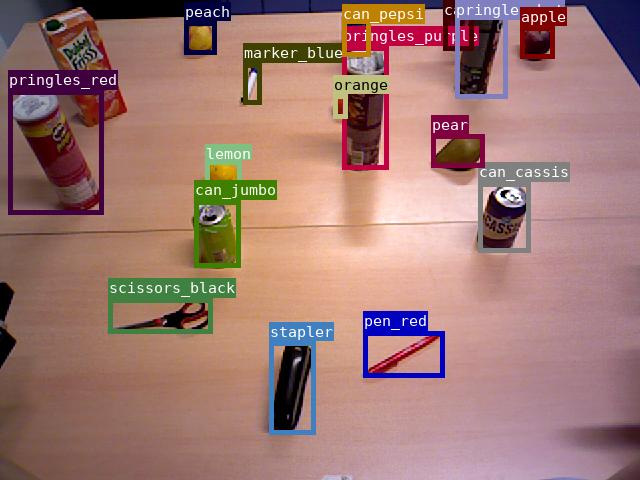apple: (520, 26, 554, 58)
can_cassis: (478, 182, 530, 252)
can_coke: (443, 0, 473, 50)
can_jumbo: (194, 200, 240, 267)
can_pepsi: (342, 4, 370, 56)
lemon: (205, 160, 241, 193)
marker_blue: (243, 63, 261, 104)
orange: (333, 94, 347, 118)
peach: (184, 21, 216, 54)
pear: (431, 134, 484, 167)
pen_red: (363, 331, 444, 377)
pringles_hot: (455, 0, 507, 98)
pringles_purple: (342, 46, 388, 169)
pringles_red: (8, 90, 103, 214)
scissors_black: (108, 298, 212, 333)
stapler: (269, 341, 315, 434)
